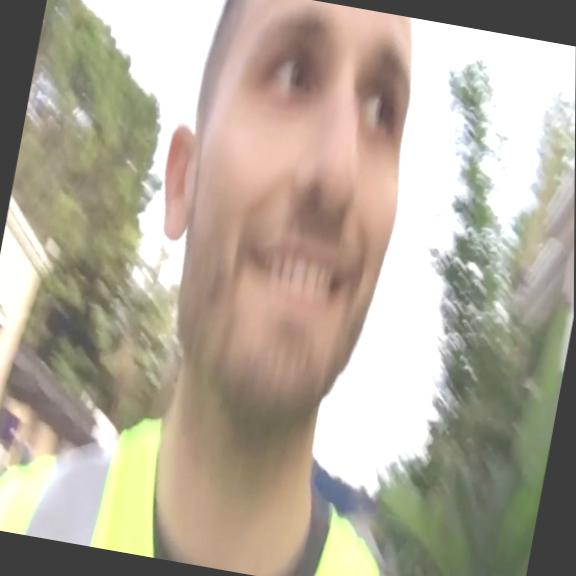safety_vest: (0, 391, 435, 576)
